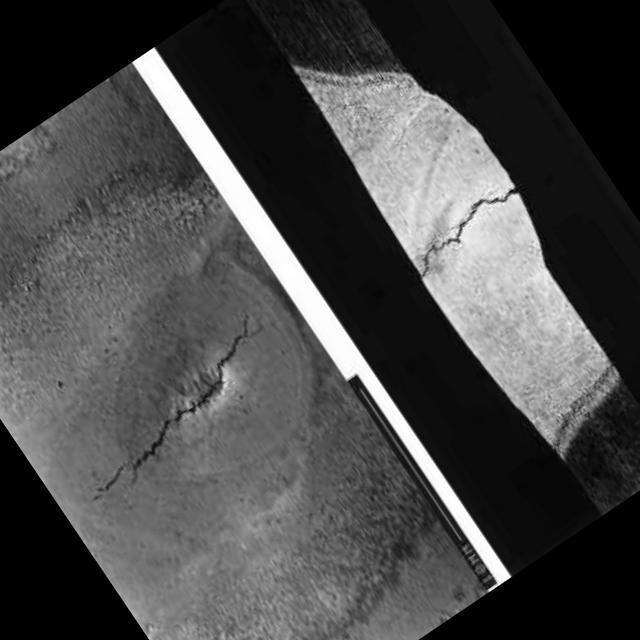defect: (88, 301, 252, 497), (420, 182, 522, 282)
